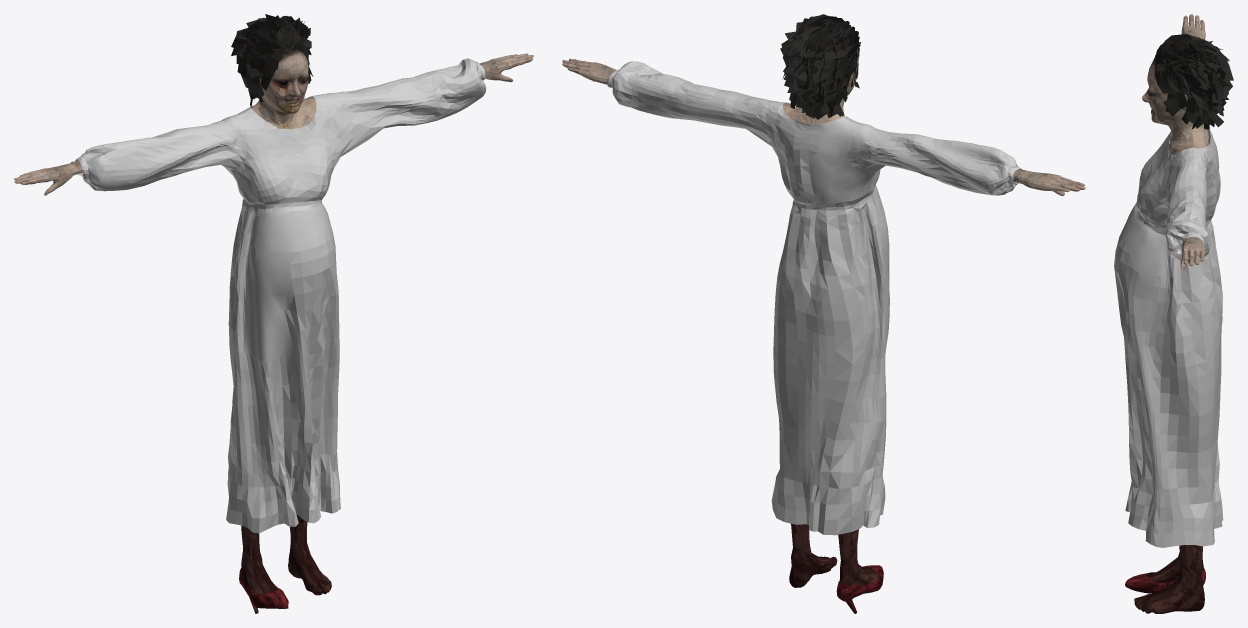
File: och.obj
The picture shows the model from 3 angles, left to right: view 1: azimuth 30°, elevation 25°; view 2: azimuth 150°, elevation 25°; view 3: azimuth 270°, elevation 25°; orthographic projection.
Parts seen in each view (by area): view 1: 2_-_MESH_och0_Untitled.004, 9_-_MESH_och0_Untitled.011, 6_-_MESH_och0_Untitled.002, 14_-_MESH_och0_Untitled.007, 12_-_MESH_och0_Untitled.003, 0_-_MESH_och0_Untitled.009, 10_-_MESH_och0_Untitled.001, 8_-_MESH_och0_Untitled, 5_-_MESH_och0_Untitled.010, 1_-_MESH_och0_Untitled.014; view 2: 2_-_MESH_och0_Untitled.004, 14_-_MESH_och0_Untitled.007, 6_-_MESH_och0_Untitled.002, 9_-_MESH_och0_Untitled.011, 12_-_MESH_och0_Untitled.003, 0_-_MESH_och0_Untitled.009, 5_-_MESH_och0_Untitled.010, 8_-_MESH_och0_Untitled, 1_-_MESH_och0_Untitled.014; view 3: 2_-_MESH_och0_Untitled.004, 9_-_MESH_och0_Untitled.011, 12_-_MESH_och0_Untitled.003, 0_-_MESH_och0_Untitled.009, 10_-_MESH_och0_Untitled.001, 8_-_MESH_och0_Untitled, 14_-_MESH_och0_Untitled.007, 1_-_MESH_och0_Untitled.014, 6_-_MESH_och0_Untitled.002, 5_-_MESH_och0_Untitled.010.
Part boxes in pixels (x1,y1,x2,y2): 2_-_MESH_och0_Untitled.004: (226, 234, 340, 533); 9_-_MESH_och0_Untitled.011: (240, 58, 486, 259); 6_-_MESH_och0_Untitled.002: (75, 105, 321, 215); 14_-_MESH_och0_Untitled.007: (228, 128, 299, 371); 12_-_MESH_och0_Untitled.003: (231, 14, 313, 106); 0_-_MESH_och0_Untitled.009: (241, 514, 331, 595); 10_-_MESH_och0_Untitled.001: (259, 37, 308, 128); 8_-_MESH_och0_Untitled: (298, 53, 533, 127); 5_-_MESH_och0_Untitled.010: (14, 161, 82, 195); 1_-_MESH_och0_Untitled.014: (239, 567, 288, 613); 2_-_MESH_och0_Untitled.004: (771, 224, 888, 535); 14_-_MESH_och0_Untitled.007: (788, 124, 889, 364); 6_-_MESH_och0_Untitled.002: (806, 116, 1021, 204); 9_-_MESH_och0_Untitled.011: (606, 61, 886, 233); 12_-_MESH_och0_Untitled.003: (780, 14, 860, 119); 0_-_MESH_och0_Untitled.009: (789, 523, 877, 587); 5_-_MESH_och0_Untitled.010: (816, 118, 1085, 195); 8_-_MESH_och0_Untitled: (562, 58, 810, 124); 1_-_MESH_och0_Untitled.014: (836, 565, 883, 613); 2_-_MESH_och0_Untitled.004: (1114, 234, 1223, 547); 9_-_MESH_och0_Untitled.011: (1118, 134, 1220, 286); 12_-_MESH_och0_Untitled.003: (1154, 34, 1233, 129); 0_-_MESH_och0_Untitled.009: (1134, 545, 1204, 613); 10_-_MESH_och0_Untitled.001: (1142, 58, 1204, 145); 8_-_MESH_och0_Untitled: (1169, 136, 1208, 269); 14_-_MESH_och0_Untitled.007: (1149, 129, 1222, 312); 1_-_MESH_och0_Untitled.014: (1125, 568, 1205, 593); 6_-_MESH_och0_Untitled.002: (1132, 126, 1219, 216); 5_-_MESH_och0_Untitled.010: (1181, 14, 1208, 134).
Bounding box in the file's own units: 2.06 × 2.23 × 0.417.
